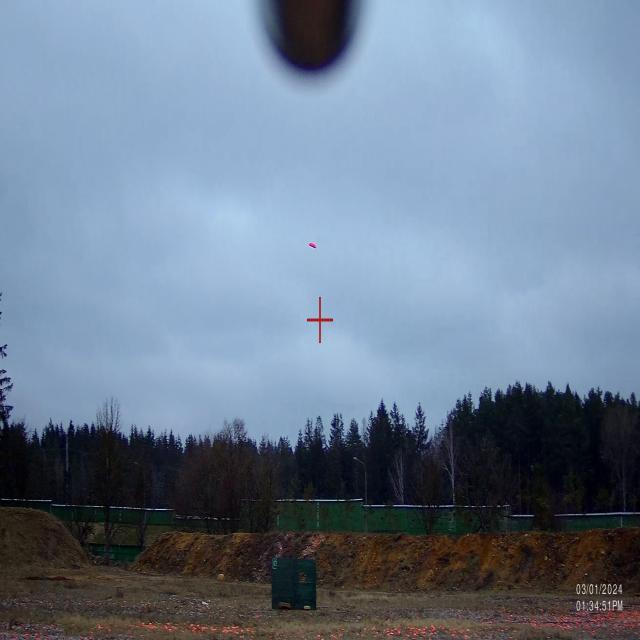entire: (303, 234, 318, 260)
